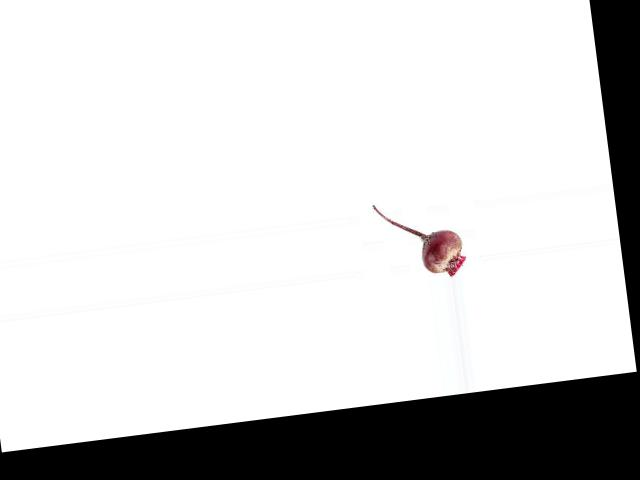beet: (372, 194, 467, 285)
